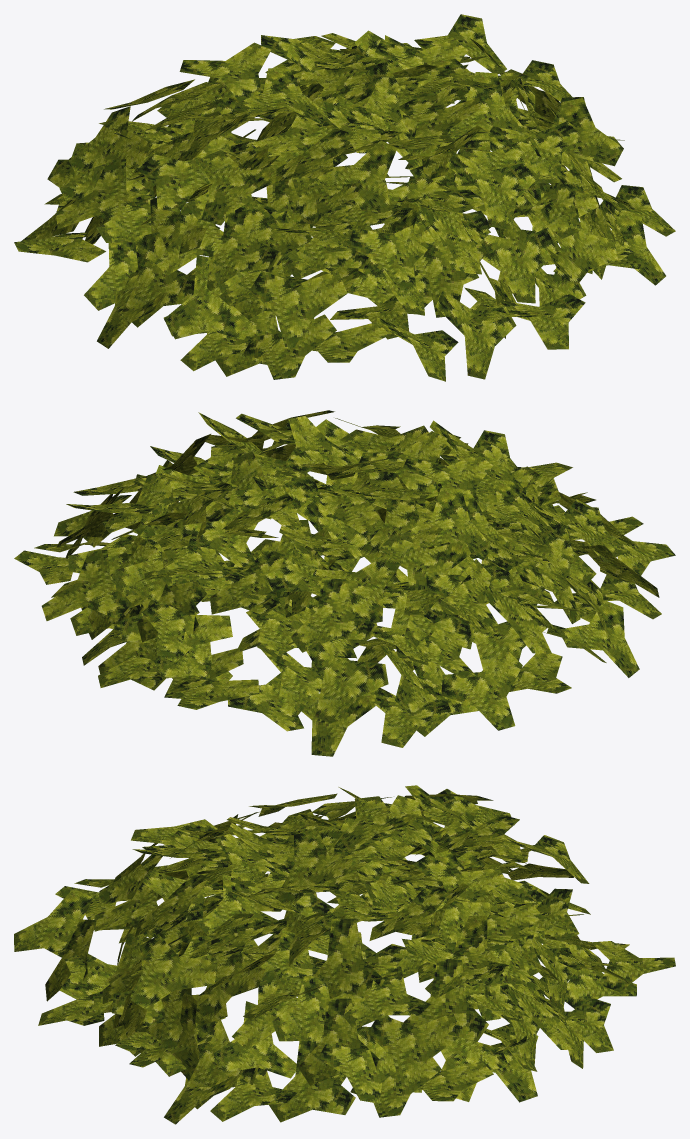
3 renders of one model, top to bottom at view 1: azimuth 30°, elevation 25°; view 2: azimuth 150°, elevation 25°; view 3: azimuth 270°, elevation 25°, orthographic. The views are drawn at different scales.
Visible parts, largest first — view 1: MH_Moss01_03.Shape; view 2: MH_Moss01_03.Shape; view 3: MH_Moss01_03.Shape.
Boxes of the visible parts, x1,y1,x2,y2 form: MH_Moss01_03.Shape: (14, 14, 675, 381); MH_Moss01_03.Shape: (14, 410, 675, 756); MH_Moss01_03.Shape: (14, 785, 675, 1124).
Size of the model in its own units: 0.0815 by 0.0255 by 0.0831.
1 material, 1 textured.
